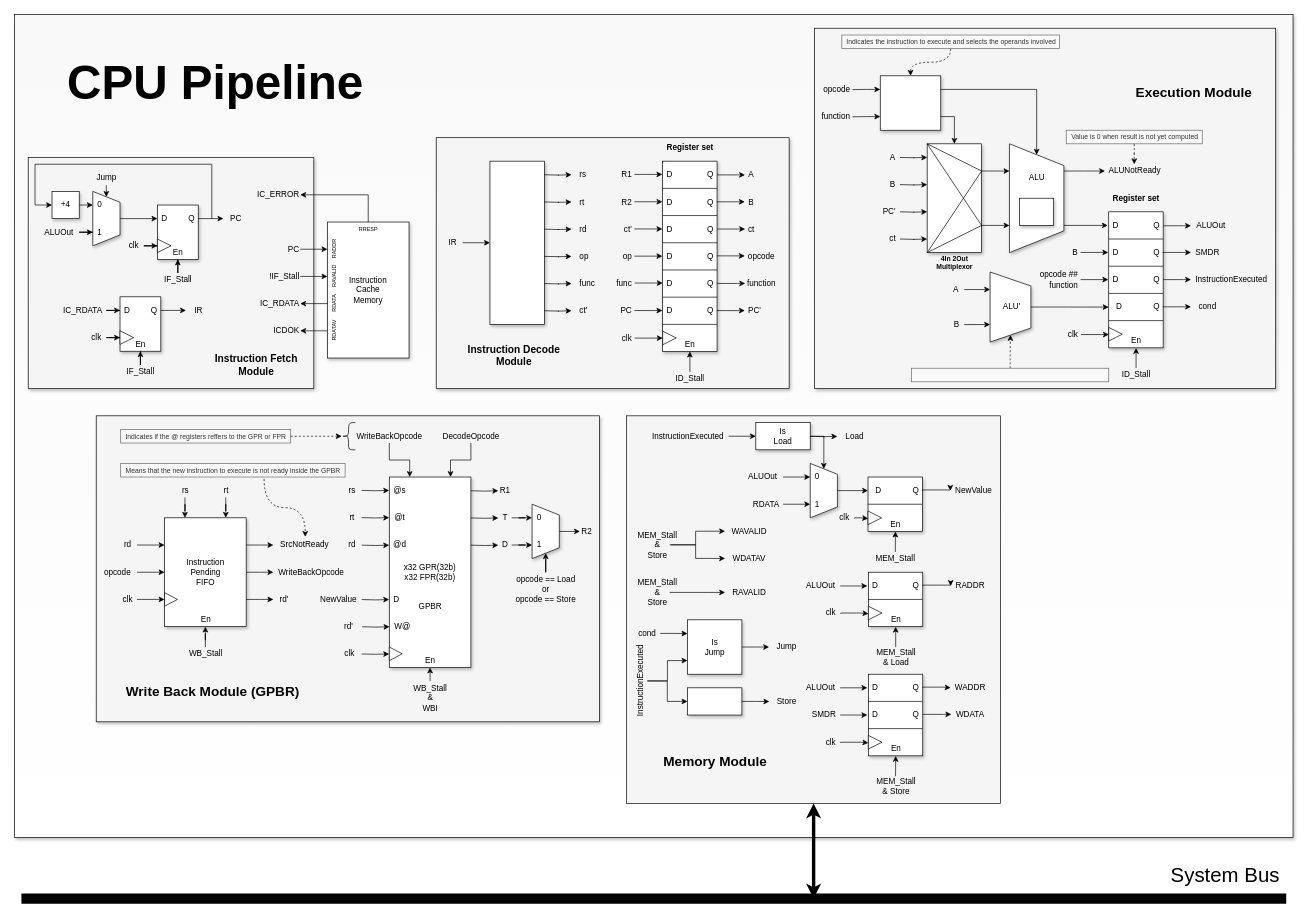
The diagram is 1309 pixels wide and 918 high, and some of its shapes have lost their labels. Each missing label, with the centre of its shape:
"Configuration Selection" belongs at [911,103].
"Contains the few operations to calculate the result of a branch" belongs at [1010,375].
"FPU" belongs at [1037,212].
"Instruction Decoder" belongs at [517,243].
"Is Store" belongs at [715,702].
